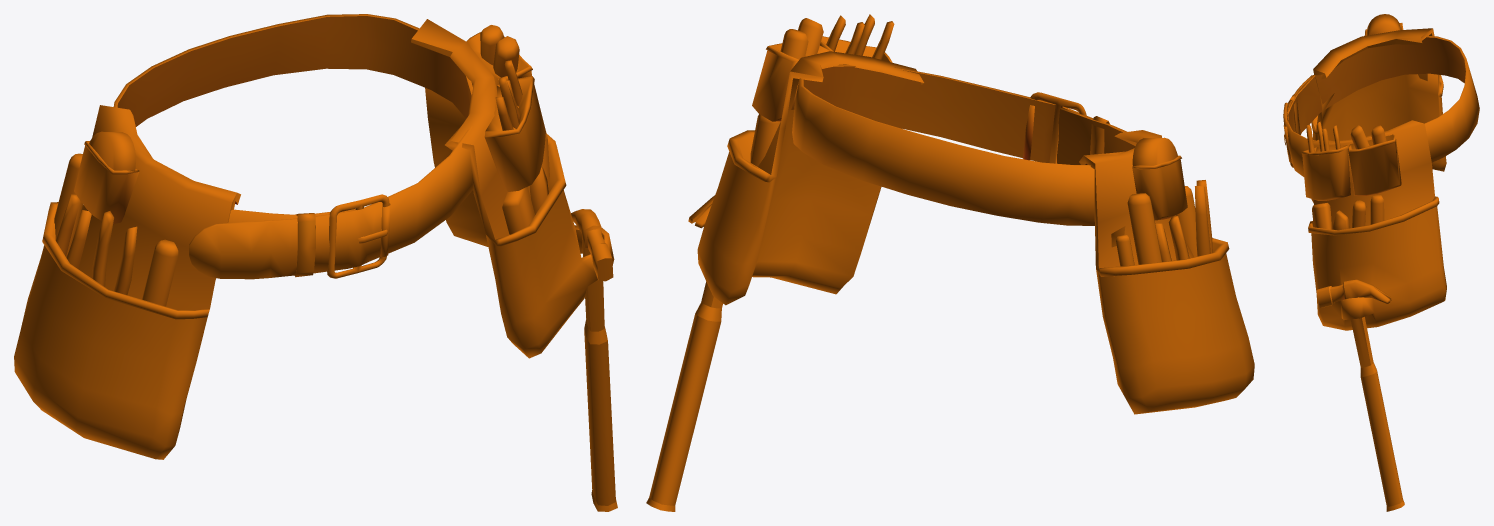
Rendered from coldrefem2.glb.
3 views of the same model, side by side, from view 1: azimuth 30°, elevation 25°; view 2: azimuth 150°, elevation 25°; view 3: azimuth 270°, elevation 25° (orthographic). The views are drawn at different scales.
Parts seen in each view (by area): view 1: hash_CD57A9EB.model; view 2: hash_CD57A9EB.model; view 3: hash_CD57A9EB.model.
Part boxes in pixels (x1,y1,x2,y2): hash_CD57A9EB.model: (14, 14, 617, 511); hash_CD57A9EB.model: (646, 14, 1254, 511); hash_CD57A9EB.model: (1283, 14, 1479, 511).
Bounding box in the file's own units: 0.647 × 0.5374 × 0.2783.
